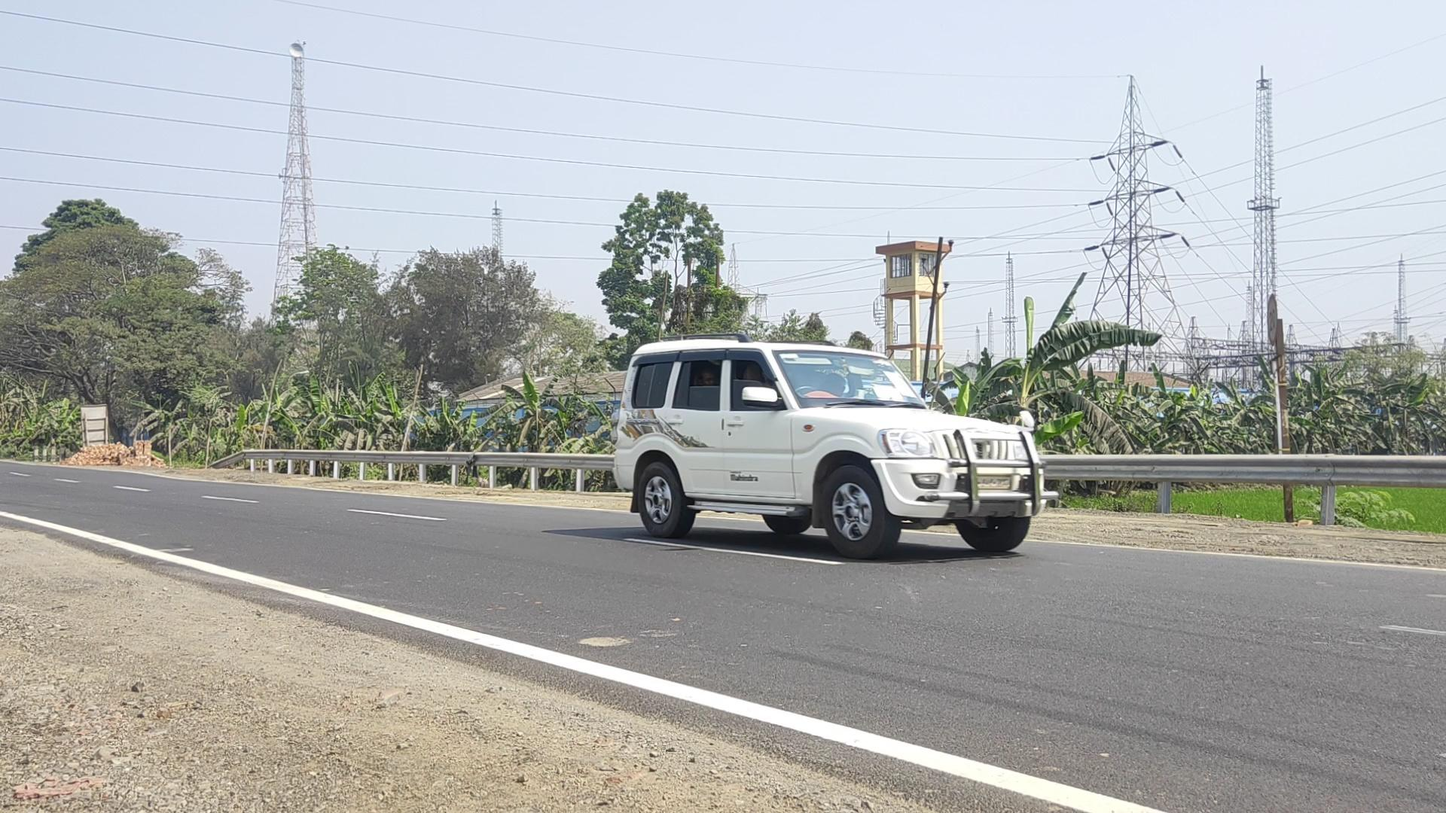car: (611, 332, 1047, 559)
